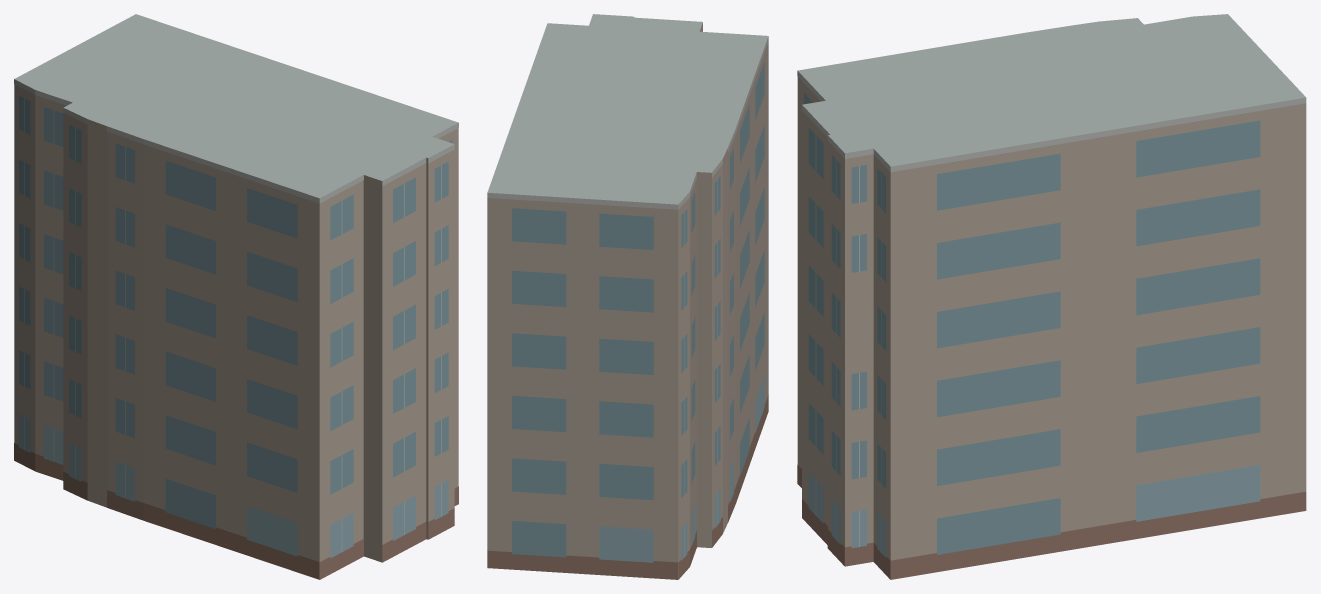
Rendered from survey-upis-32708237.glb.
3 views of the same model, side by side, from view 1: azimuth 30°, elevation 25°; view 2: azimuth 150°, elevation 25°; view 3: azimuth 270°, elevation 25° (orthographic). The views are drawn at different scales.
Visible parts, largest first — view 1: survey-upis-32708237.tmp; view 2: survey-upis-32708237.tmp; view 3: survey-upis-32708237.tmp.
Boxes of the visible parts, x1,y1,x2,y2 form: survey-upis-32708237.tmp: (14,14,458,579); survey-upis-32708237.tmp: (487,14,768,579); survey-upis-32708237.tmp: (797,14,1306,579).
Bounding box in the file's own units: 14.11 × 17.8 × 19.87.
